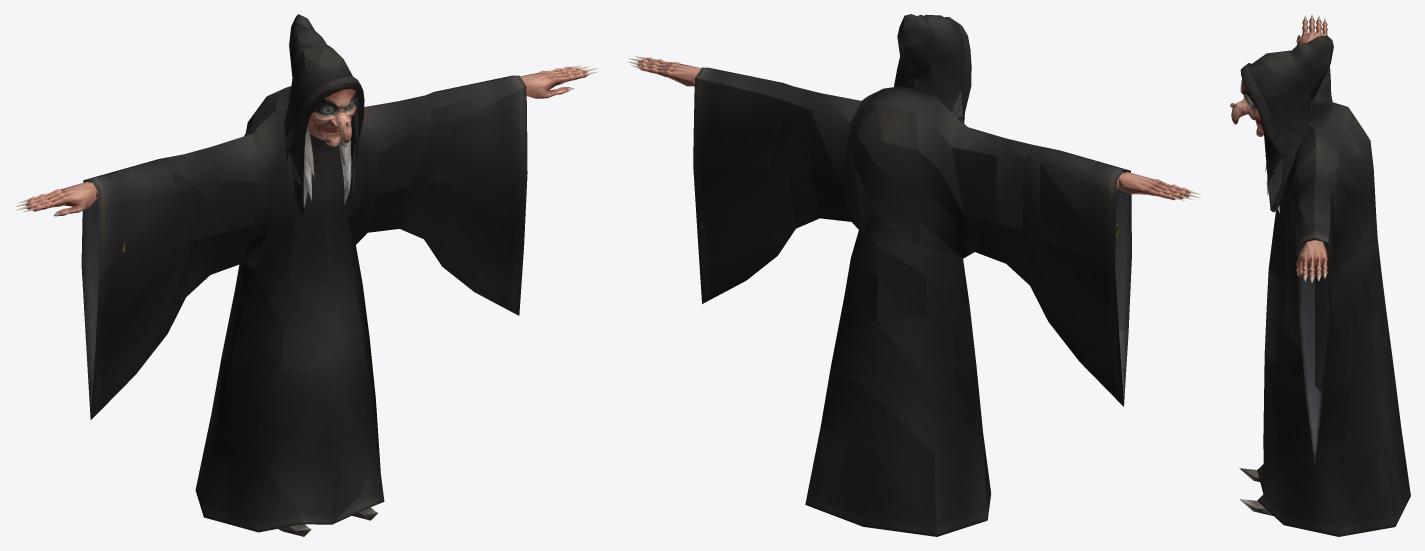
File: EvilQueenCharacter.fbx
The picture shows the model from 3 angles, left to right: view 1: azimuth 30°, elevation 25°; view 2: azimuth 150°, elevation 25°; view 3: azimuth 270°, elevation 25°; orthographic projection. The views are drawn at different scales.
Parts seen in each view (by area): view 1: 620out; view 2: 620out; view 3: 620out.
Boxes of the visible parts, left/top/right/bottom form: 620out: left=15, top=14, right=597, bottom=536; 620out: left=628, top=14, right=1200, bottom=536; 620out: left=1230, top=14, right=1410, bottom=536.
Size of the model in its own units: 21655 by 17242 by 6141.
